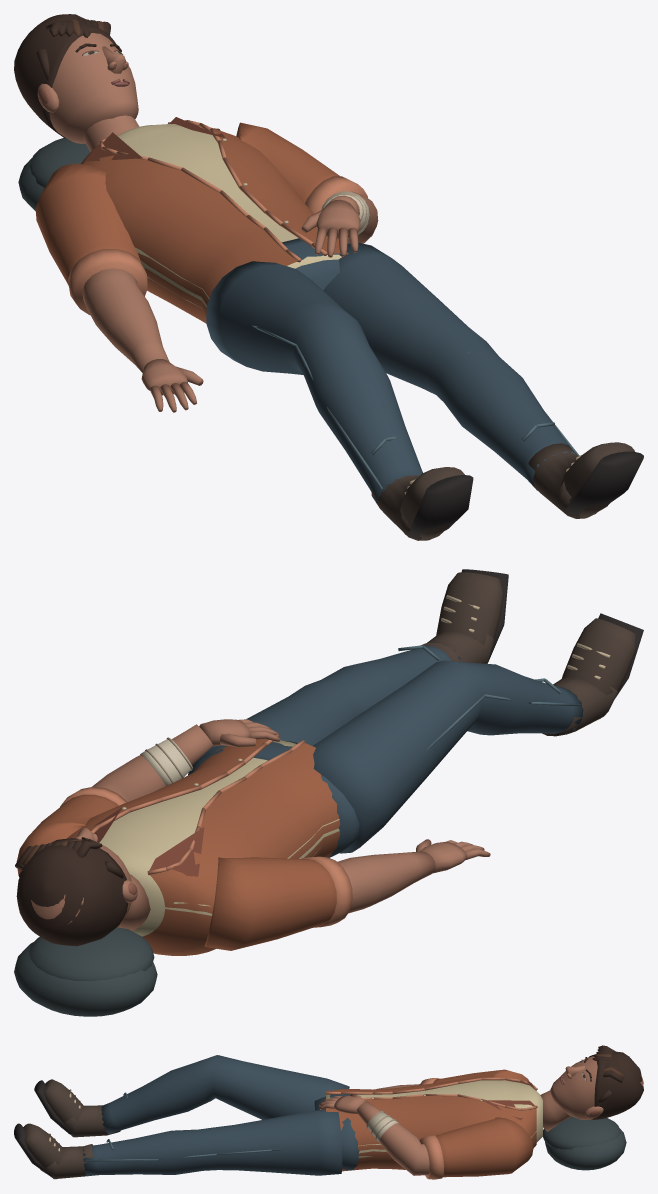
File: Medevac-Patient-LOD1.glb
3 renders of one model, top to bottom at view 1: azimuth 30°, elevation 25°; view 2: azimuth 150°, elevation 25°; view 3: azimuth 270°, elevation 25°, orthographic. The views are drawn at different scales.
Visible parts, largest first — view 1: Medevac-Patient; view 2: Medevac-Patient; view 3: Medevac-Patient.
Part boxes in pixels (bbox=[...]): Medevac-Patient: bbox=[14, 14, 643, 540]; Medevac-Patient: bbox=[14, 569, 643, 1016]; Medevac-Patient: bbox=[14, 1045, 643, 1179].
Bounding box in the file's own units: 0.6732 × 0.3674 × 1.88.
